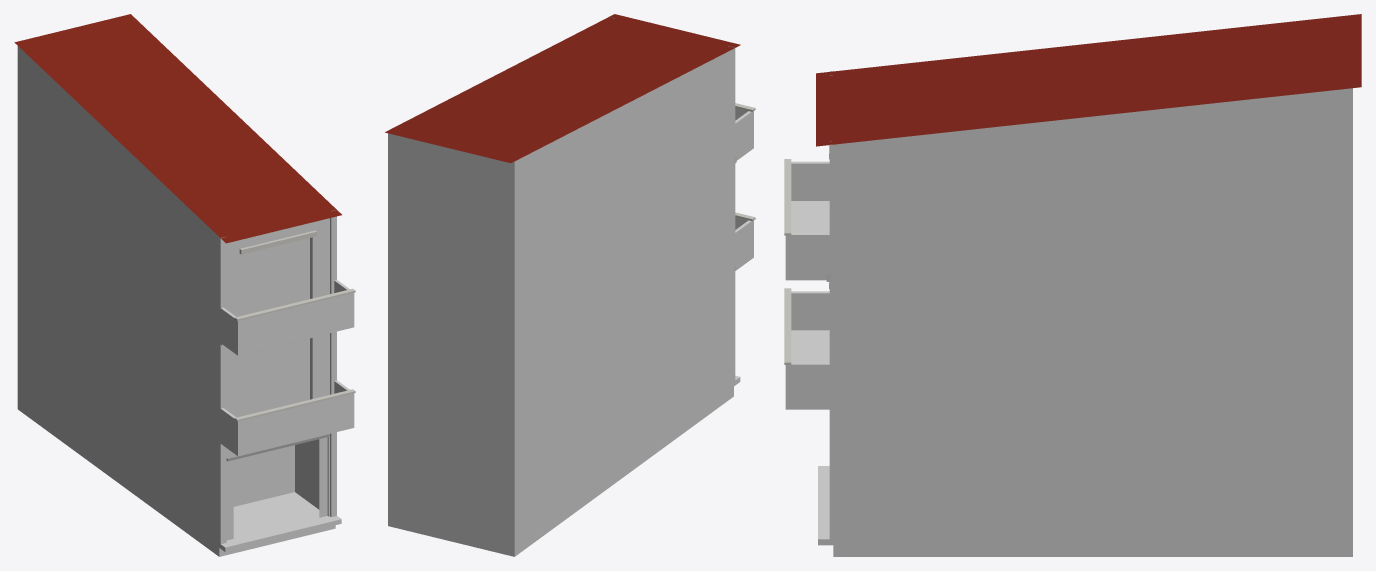
The picture shows the model from 3 angles, left to right: view 1: azimuth 30°, elevation 25°; view 2: azimuth 150°, elevation 25°; view 3: azimuth 270°, elevation 25°; orthographic projection. The views are drawn at different scales.
Visible parts, largest first — view 1: TH_D12_C_06_LOD0; view 2: TH_D12_C_06_LOD0; view 3: TH_D12_C_06_LOD0.
Part boxes in pixels (box(x1,y1,x2,y2)): TH_D12_C_06_LOD0: box(14, 14, 355, 556); TH_D12_C_06_LOD0: box(385, 14, 755, 556); TH_D12_C_06_LOD0: box(784, 14, 1361, 556).
Size of what is drawn, in the model's own units: 4.06 by 11.96 by 13.33.
